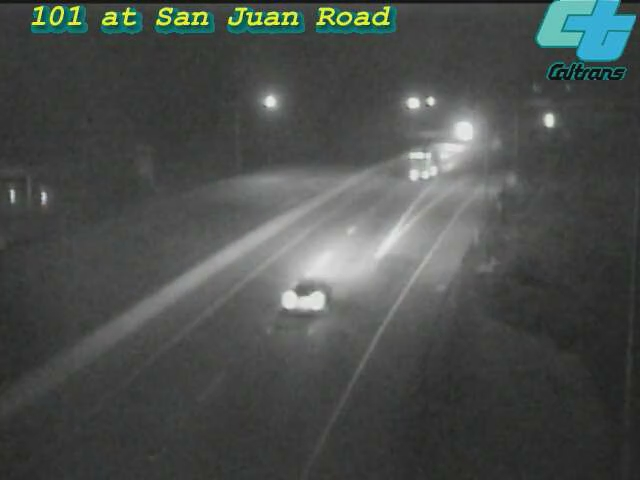vehicle: (378, 126, 458, 206), (270, 253, 350, 333), (443, 104, 493, 154), (524, 97, 574, 147), (429, 121, 479, 171)
